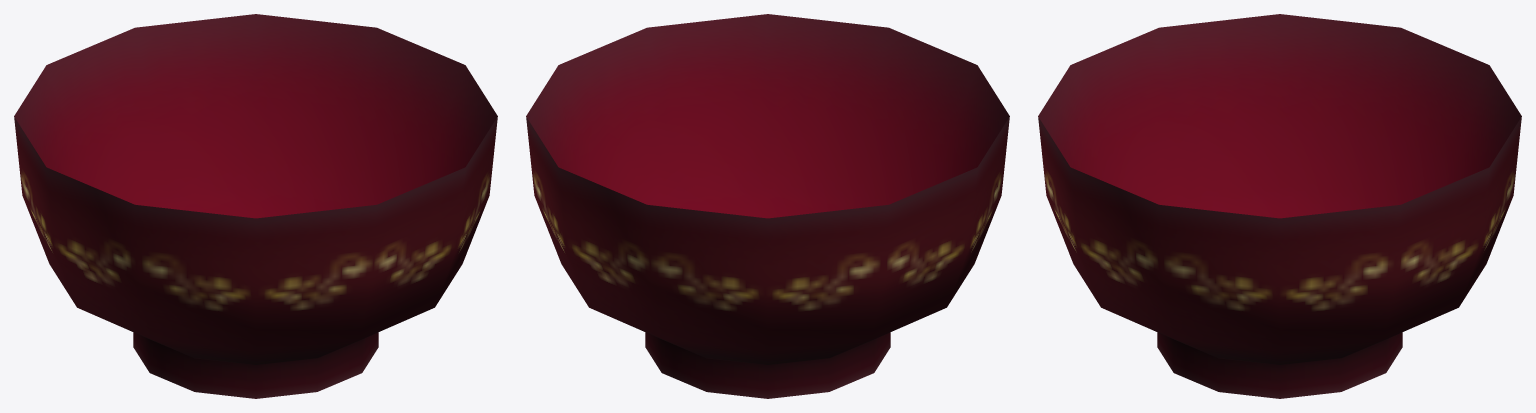
Rendered from KR_Soup_bowl_01_01.fbx.
3 views of the same model, side by side, from view 1: azimuth 30°, elevation 25°; view 2: azimuth 150°, elevation 25°; view 3: azimuth 270°, elevation 25° (orthographic).
Parts seen in each view (by area): view 1: kr_soup_bowl_01_01; view 2: kr_soup_bowl_01_01; view 3: kr_soup_bowl_01_01.
Boxes of the visible parts, x1,y1,x2,y2 form: kr_soup_bowl_01_01: (14,14,497,398); kr_soup_bowl_01_01: (526,14,1009,398); kr_soup_bowl_01_01: (1038,14,1521,398).
Size of the model in its own units: 11.25 by 5.92 by 11.25.
